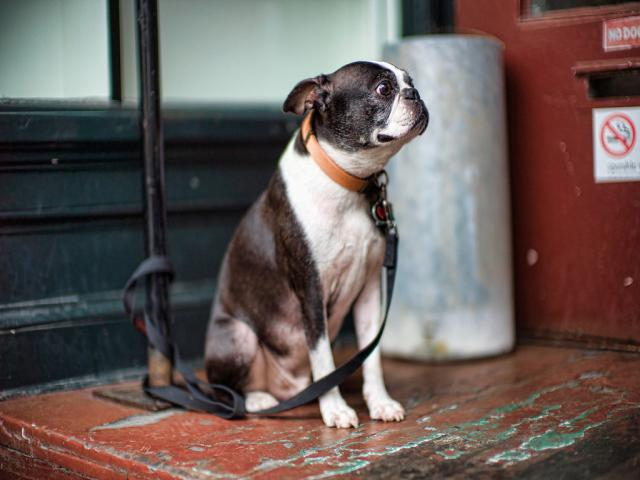Dog: (205, 58, 429, 430)
